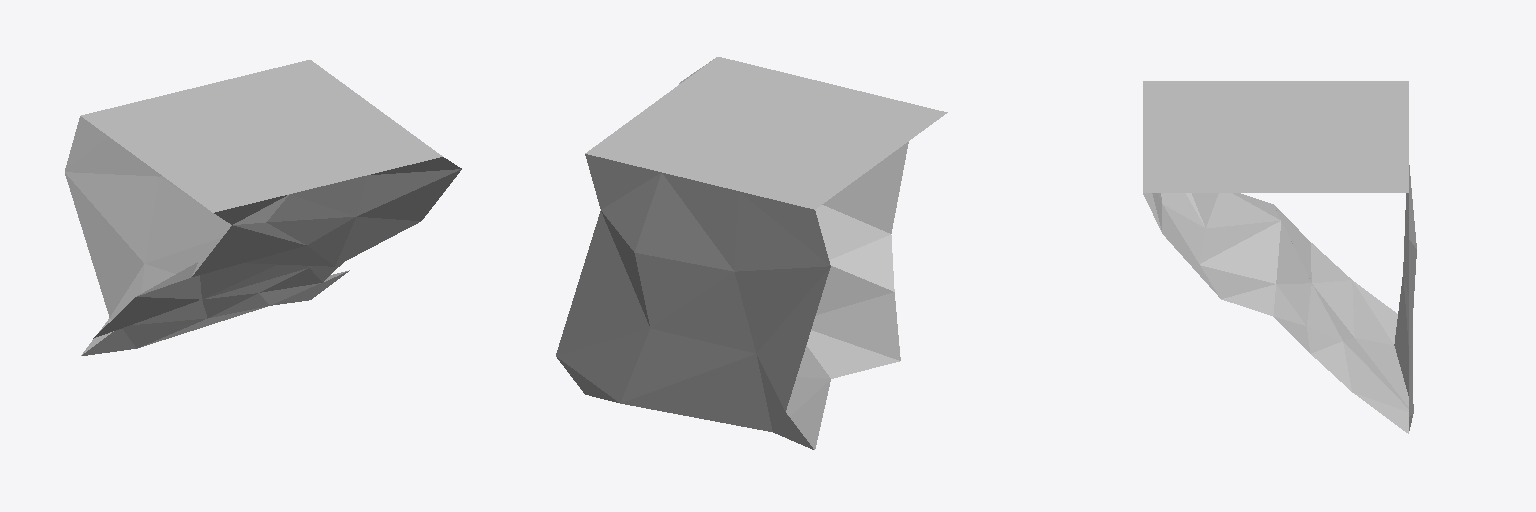
Rendered from RockPlatform3.obj.
3 views of the same model, side by side, from view 1: azimuth 30°, elevation 25°; view 2: azimuth 150°, elevation 25°; view 3: azimuth 270°, elevation 25° (orthographic).
Parts seen in each view (by area): view 1: Cube.003; view 2: Cube.003; view 3: Cube.003.
Part boxes in pixels (x1,y1,x2,y2): Cube.003: (65, 60, 461, 355); Cube.003: (556, 57, 947, 449); Cube.003: (1143, 81, 1416, 433).
Bounding box in the file's own units: 2.57 × 2 × 2.06.